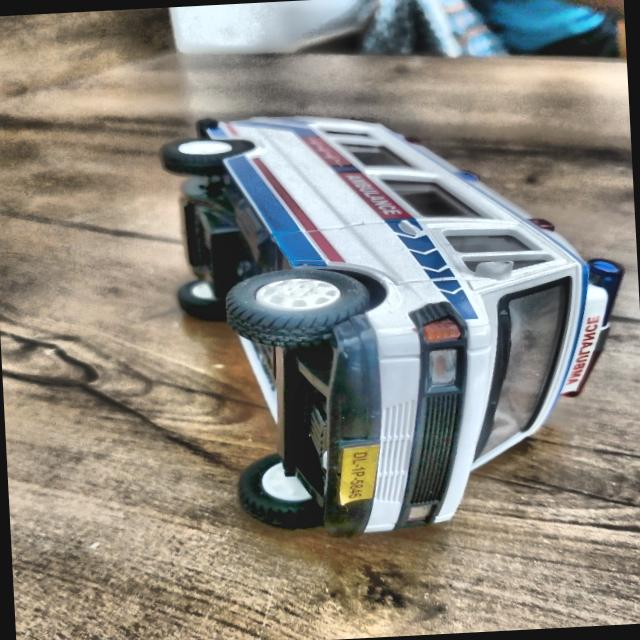Ambulance: (150, 91, 640, 538)
